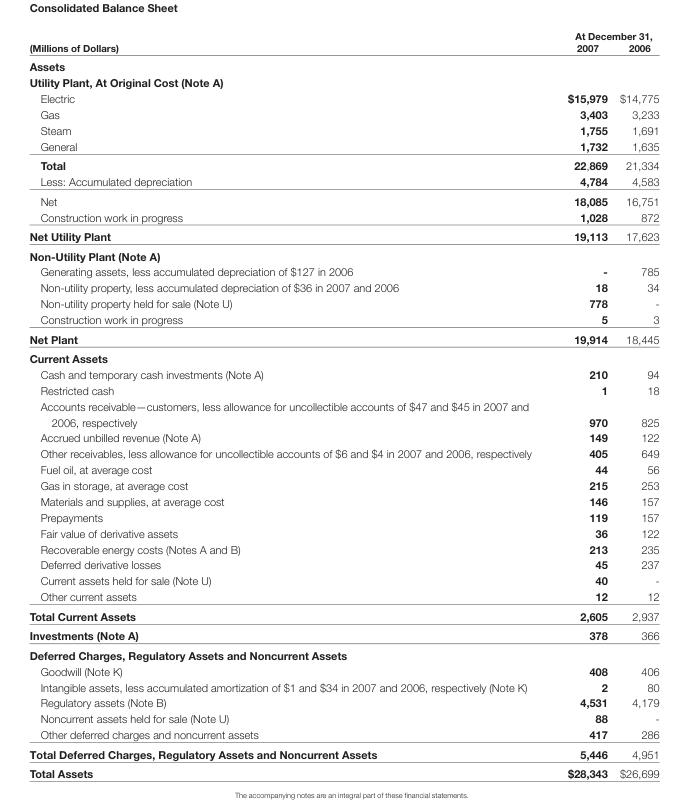table: (28, 29, 658, 779)
table column: (28, 29, 548, 779), (548, 29, 612, 779), (612, 29, 658, 779)
table column header: (28, 29, 658, 56)
table projected row header: (28, 56, 658, 74), (28, 245, 658, 263), (28, 644, 658, 662), (28, 348, 658, 365), (28, 74, 658, 89)
table row: (28, 397, 658, 429), (28, 328, 658, 348), (28, 605, 658, 625), (28, 743, 658, 763), (28, 226, 658, 245), (28, 625, 658, 644), (28, 56, 658, 74), (28, 137, 658, 155), (28, 172, 658, 190), (28, 190, 658, 208), (28, 208, 658, 226), (28, 245, 658, 263), (28, 310, 658, 328), (28, 644, 658, 662), (28, 155, 658, 172), (28, 348, 658, 365), (28, 588, 658, 605), (28, 726, 658, 743), (28, 89, 658, 105), (28, 105, 658, 121), (28, 121, 658, 137), (28, 263, 658, 279), (28, 279, 658, 295), (28, 365, 658, 381), (28, 381, 658, 397), (28, 429, 658, 445), (28, 445, 658, 461), (28, 476, 658, 492), (28, 492, 658, 508), (28, 508, 658, 524), (28, 524, 658, 540), (28, 540, 658, 556), (28, 556, 658, 572), (28, 572, 658, 588), (28, 662, 658, 678), (28, 678, 658, 694), (28, 694, 658, 710), (28, 710, 658, 726), (28, 763, 658, 779), (28, 41, 658, 56), (28, 74, 658, 89), (28, 295, 658, 310), (28, 461, 658, 476), (28, 29, 658, 41)
table spanning cell: (28, 29, 548, 56), (548, 29, 658, 41)
